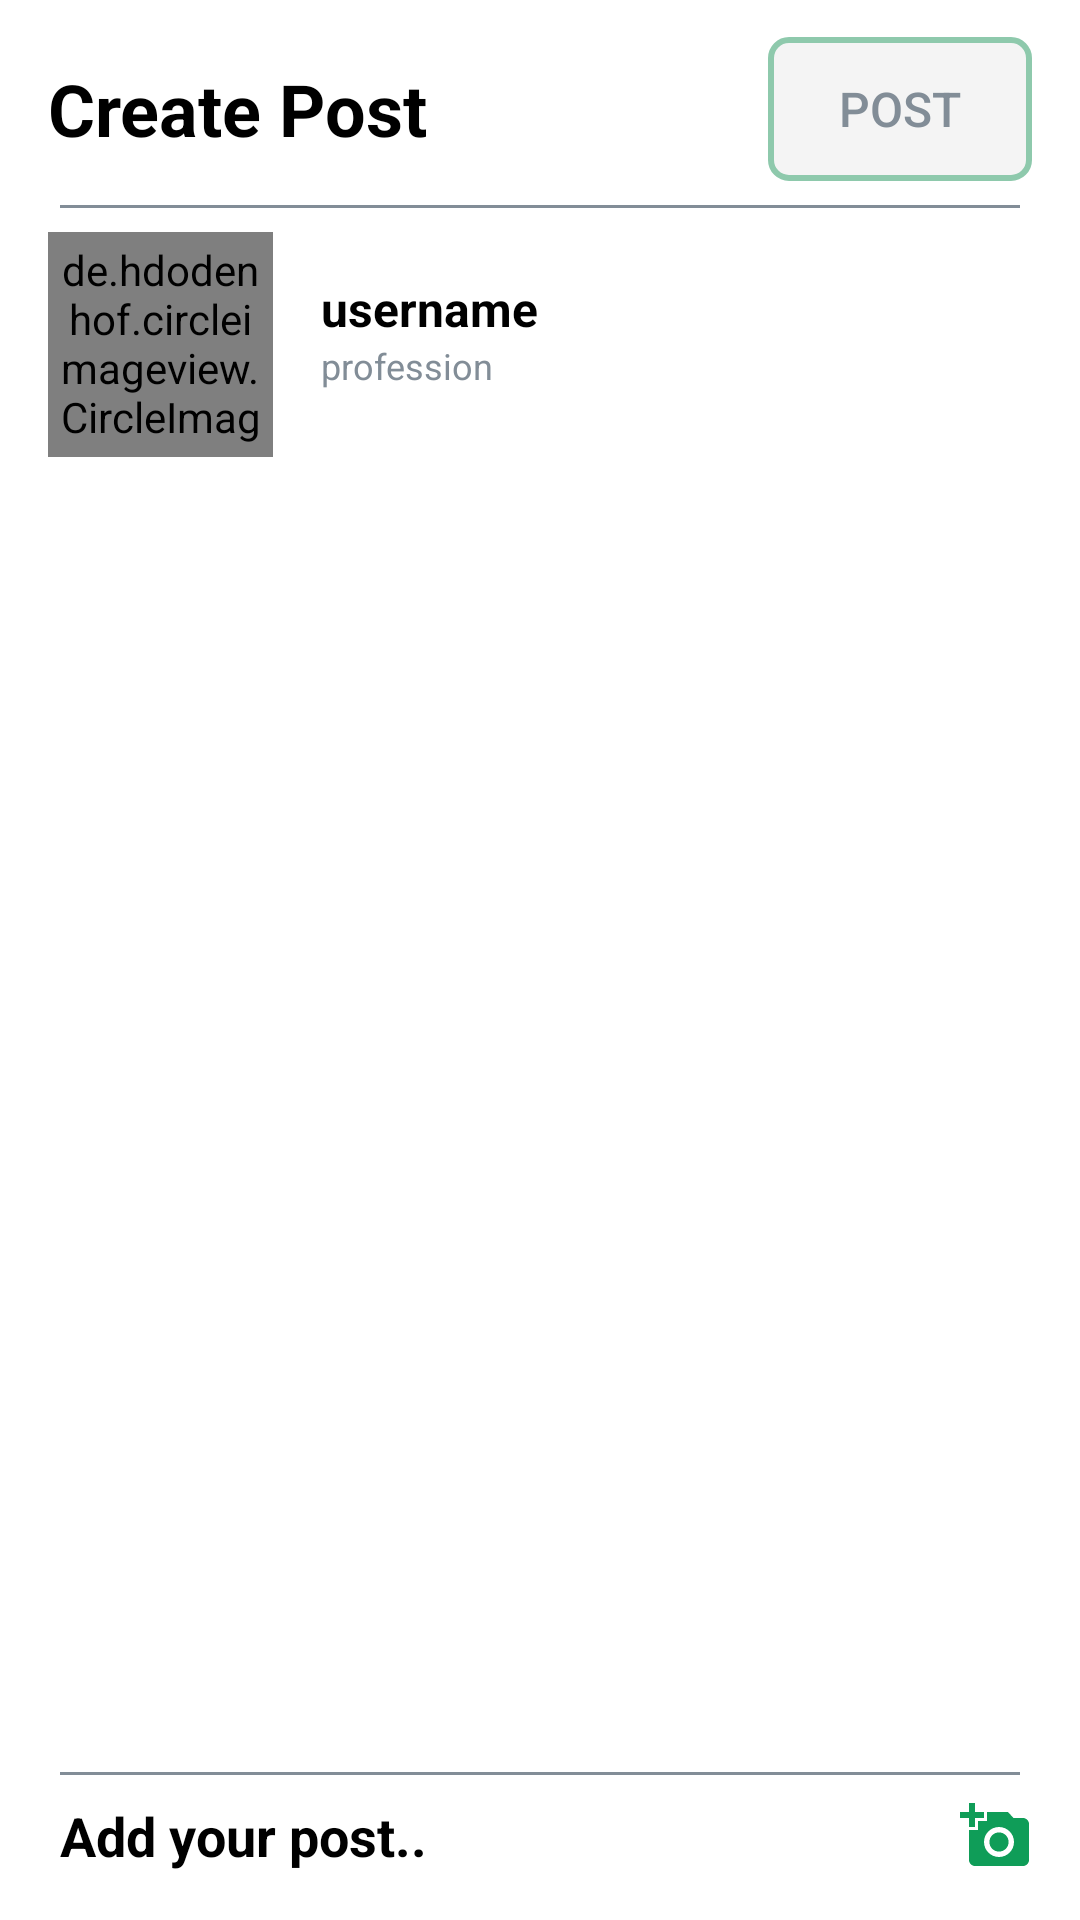

Screen size 1080×1920. Icon name, then its box in pixels as (x1,y1,x2,y2):
addimage: (960,1803,1029,1866)
